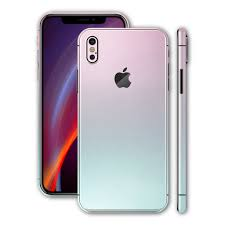iphone: (76, 26, 169, 210)
iphone10: (77, 26, 170, 210)
